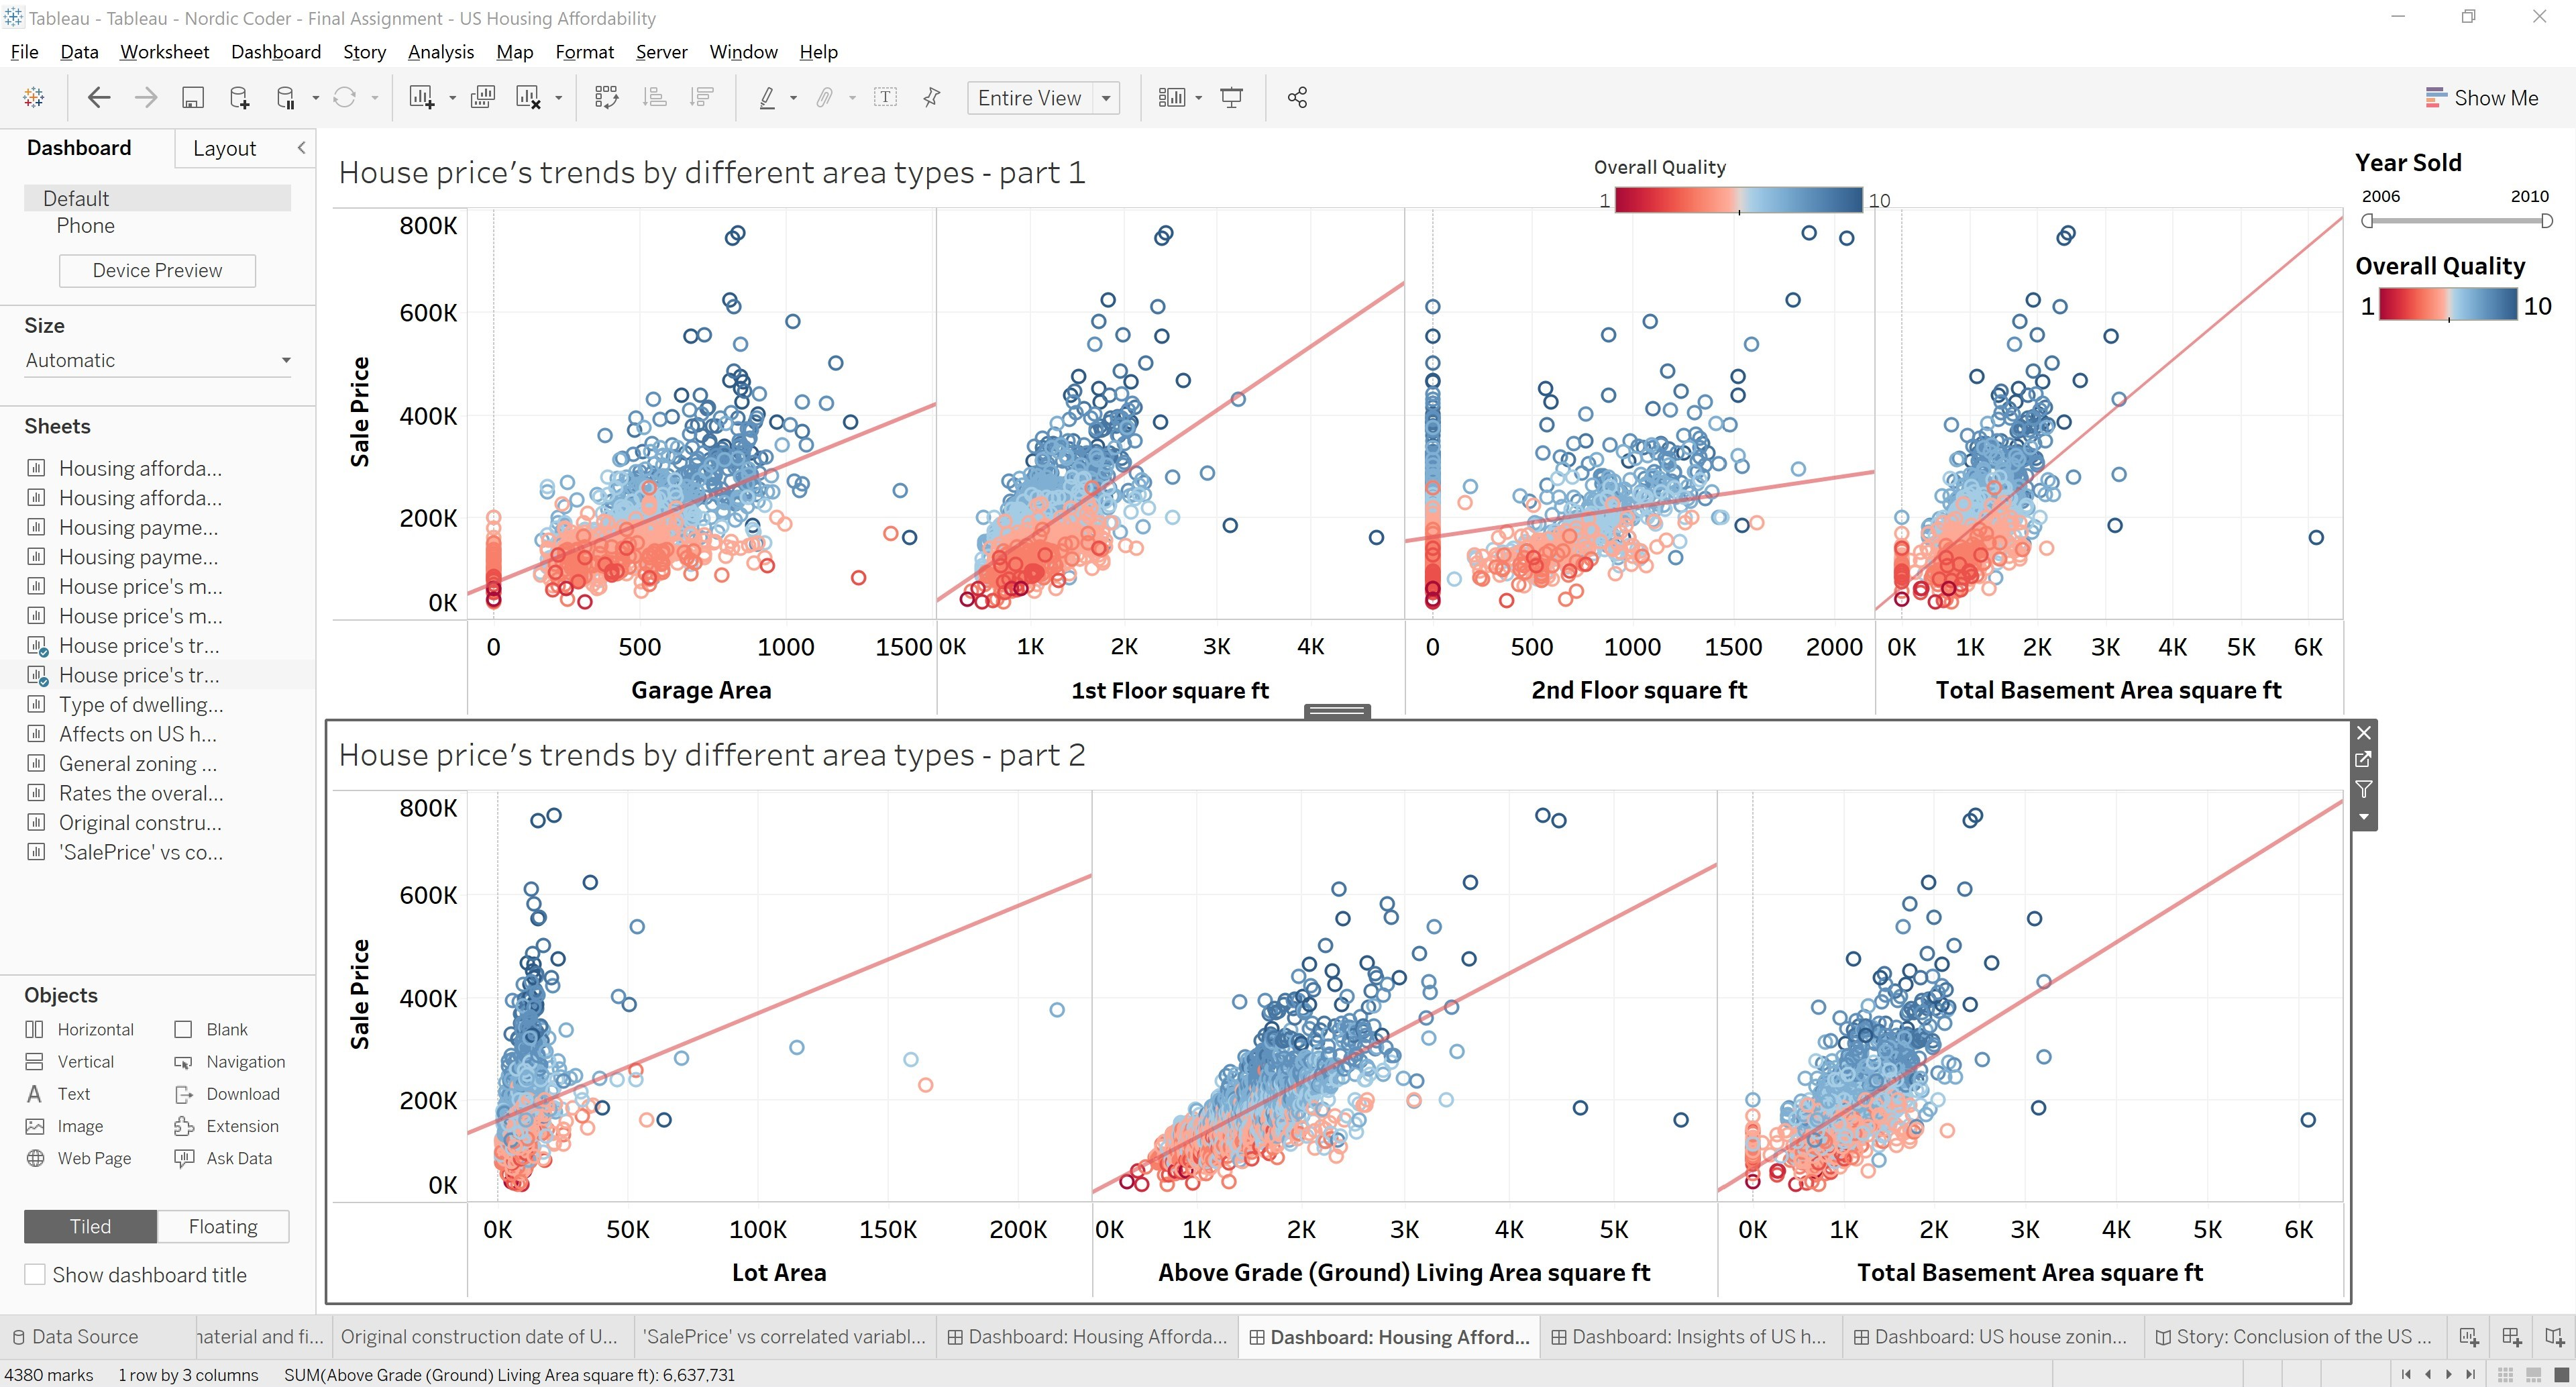

The dashboard page shown, as its layout file describes it:
{"tool":"tableau","page":{"name":"Dashboard: Housing Affordability by area types in the US","canvas":[1000,1000],"units":"permille","ordinal":0},"visuals":[{"type":"worksheet","title":"House price's trends by different area types - part 1","mark":"Automatic","rows":["SalePrice"],"cols":["GarageArea","1stFlrSF","2ndFlrSF","TotalBsmtSF"],"box":[4.8,9.1,895.4,490.9]},{"type":"filter","title":"House price's trends by different area types - part 2","param":"[federated.0mtpgnv0v9jcej1em37h80tl5cxx].[none:YrSold:qk]","box":[900.2,9.1,95.1,87.2]},{"type":"legend","title":"House price's trends by different area types - part 2","param":"[federated.0mtpgnv0v9jcej1em37h80tl5cxx].[sum:OverallQual:qk]","box":[900.2,96.3,95.1,91.7]},{"type":"legend","title":"House price's trends by different area types - part 1","param":"[federated.0mtpgnv0v9jcej1em37h80tl5cxx].[none:OverallQual:qk]","box":[860.4,201.6,134.3,108.7]},{"type":"worksheet","title":"House price's trends by different area types - part 2","mark":"Automatic","rows":["SalePrice"],"cols":["LotArea","GrLivArea","TotalBsmtSF"],"box":[4.8,500,895.4,490.9]}]}

Visuals, with their boxes on the dashboard's canvas, which has no fixed pixel size, in thousandths of its width and height (x1, y1, x2, y2). These are canvas units, not pixel positions in the 2576x1387 screenshot, which may show the page scaled, cropped or inside an application window:
"House price's trends by different area types - part 1" worksheet: left=5, top=9, right=900, bottom=500
"House price's trends by different area types - part 2" filter: left=900, top=9, right=995, bottom=96
"House price's trends by different area types - part 2" legend: left=900, top=96, right=995, bottom=188
"House price's trends by different area types - part 1" legend: left=860, top=202, right=995, bottom=310
"House price's trends by different area types - part 2" worksheet: left=5, top=500, right=900, bottom=991
